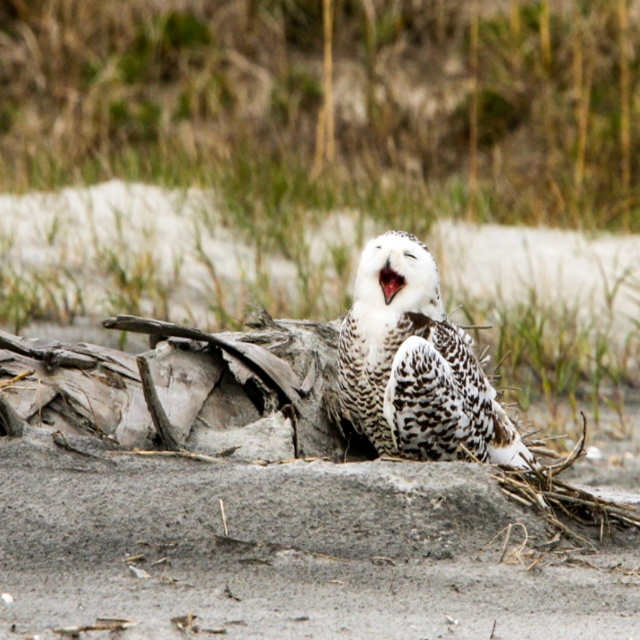Owl: (343, 227, 545, 484)
